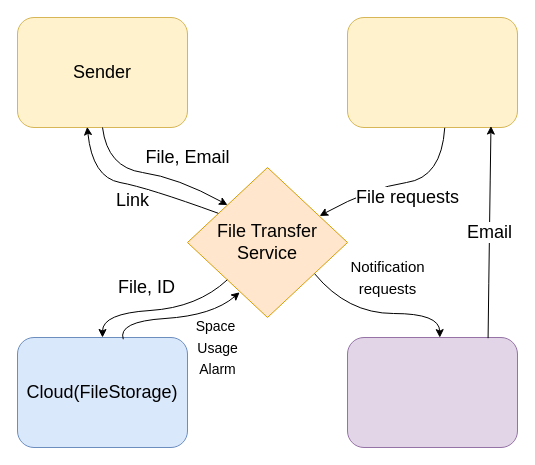
The diagram is 535 pixels wide and 465 high, and some of its shapes have lost their labels. The shapes that lost their labels are listed below. From the top down, each one's centre as x and y in pixels, then its label:
At pixel 432 72: "Recepient".
At pixel 432 392: "Email Service".
